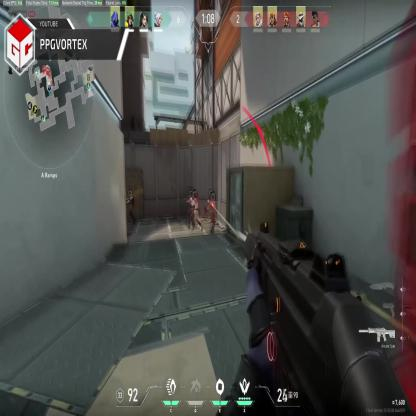enemy: (192, 189, 202, 233), (125, 188, 135, 226), (207, 192, 216, 233), (187, 189, 194, 235)
enemy_head: (127, 188, 133, 197), (210, 192, 216, 201), (193, 191, 198, 200), (188, 189, 192, 199)
